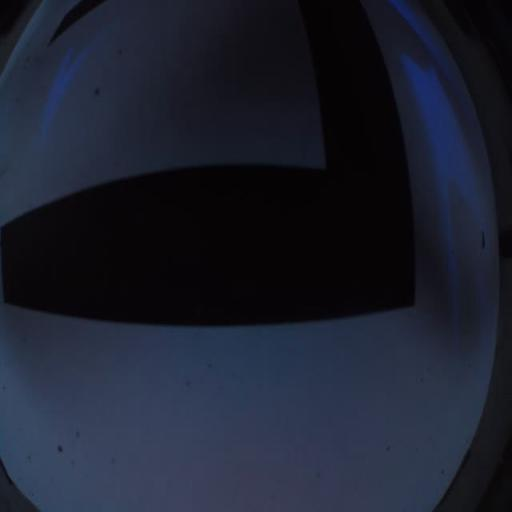L: (0, 0, 417, 326)
